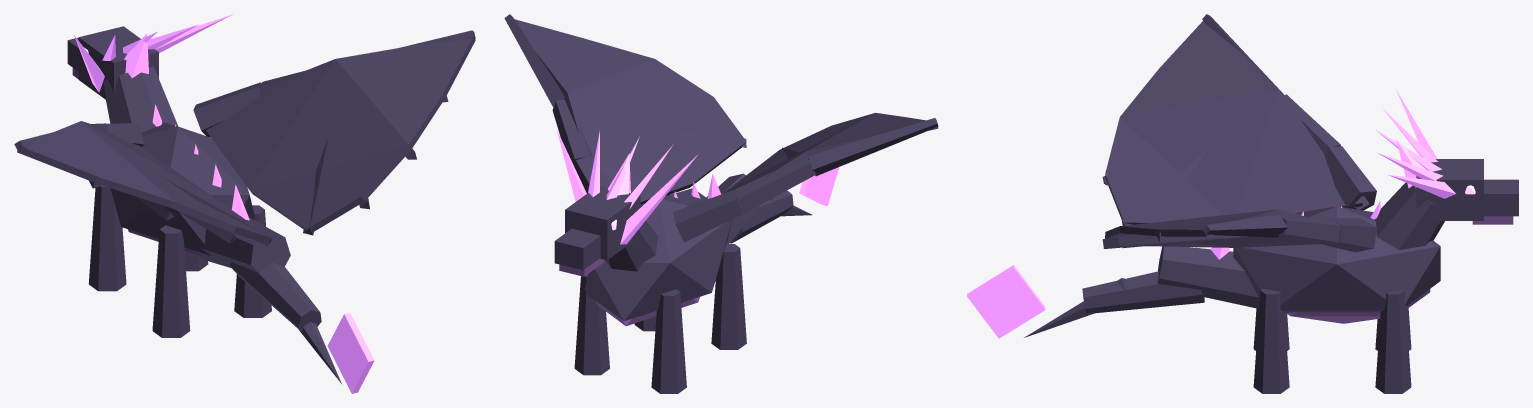
File: dragon_void.glb
3 renders of one model, left to right at view 1: azimuth 30°, elevation 25°; view 2: azimuth 150°, elevation 25°; view 3: azimuth 270°, elevation 25°, orthographic. The views are drawn at different scales.
Parts seen in each view (by area): view 1: DragonBody; view 2: DragonBody; view 3: DragonBody.
Boxes of the visible parts, x1=… form: DragonBody: x1=14, y1=14, x2=475, y2=393; DragonBody: x1=504, y1=14, x2=938, y2=393; DragonBody: x1=967, y1=14, x2=1518, y2=393.
Bounding box in the file's own units: 7.29 × 3.94 × 7.92.
